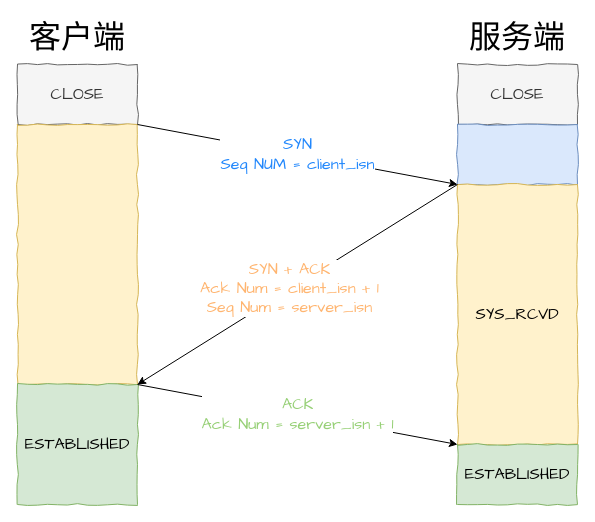
This 595x522 diagram has some shape labels left out. The centre of each missing label's shape, as x and y in pixels:
LISTEN: [517,154]
SYS_SENT: [77,254]
